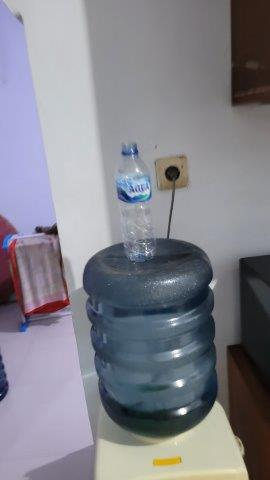botolplastik: (113, 141, 162, 262)
